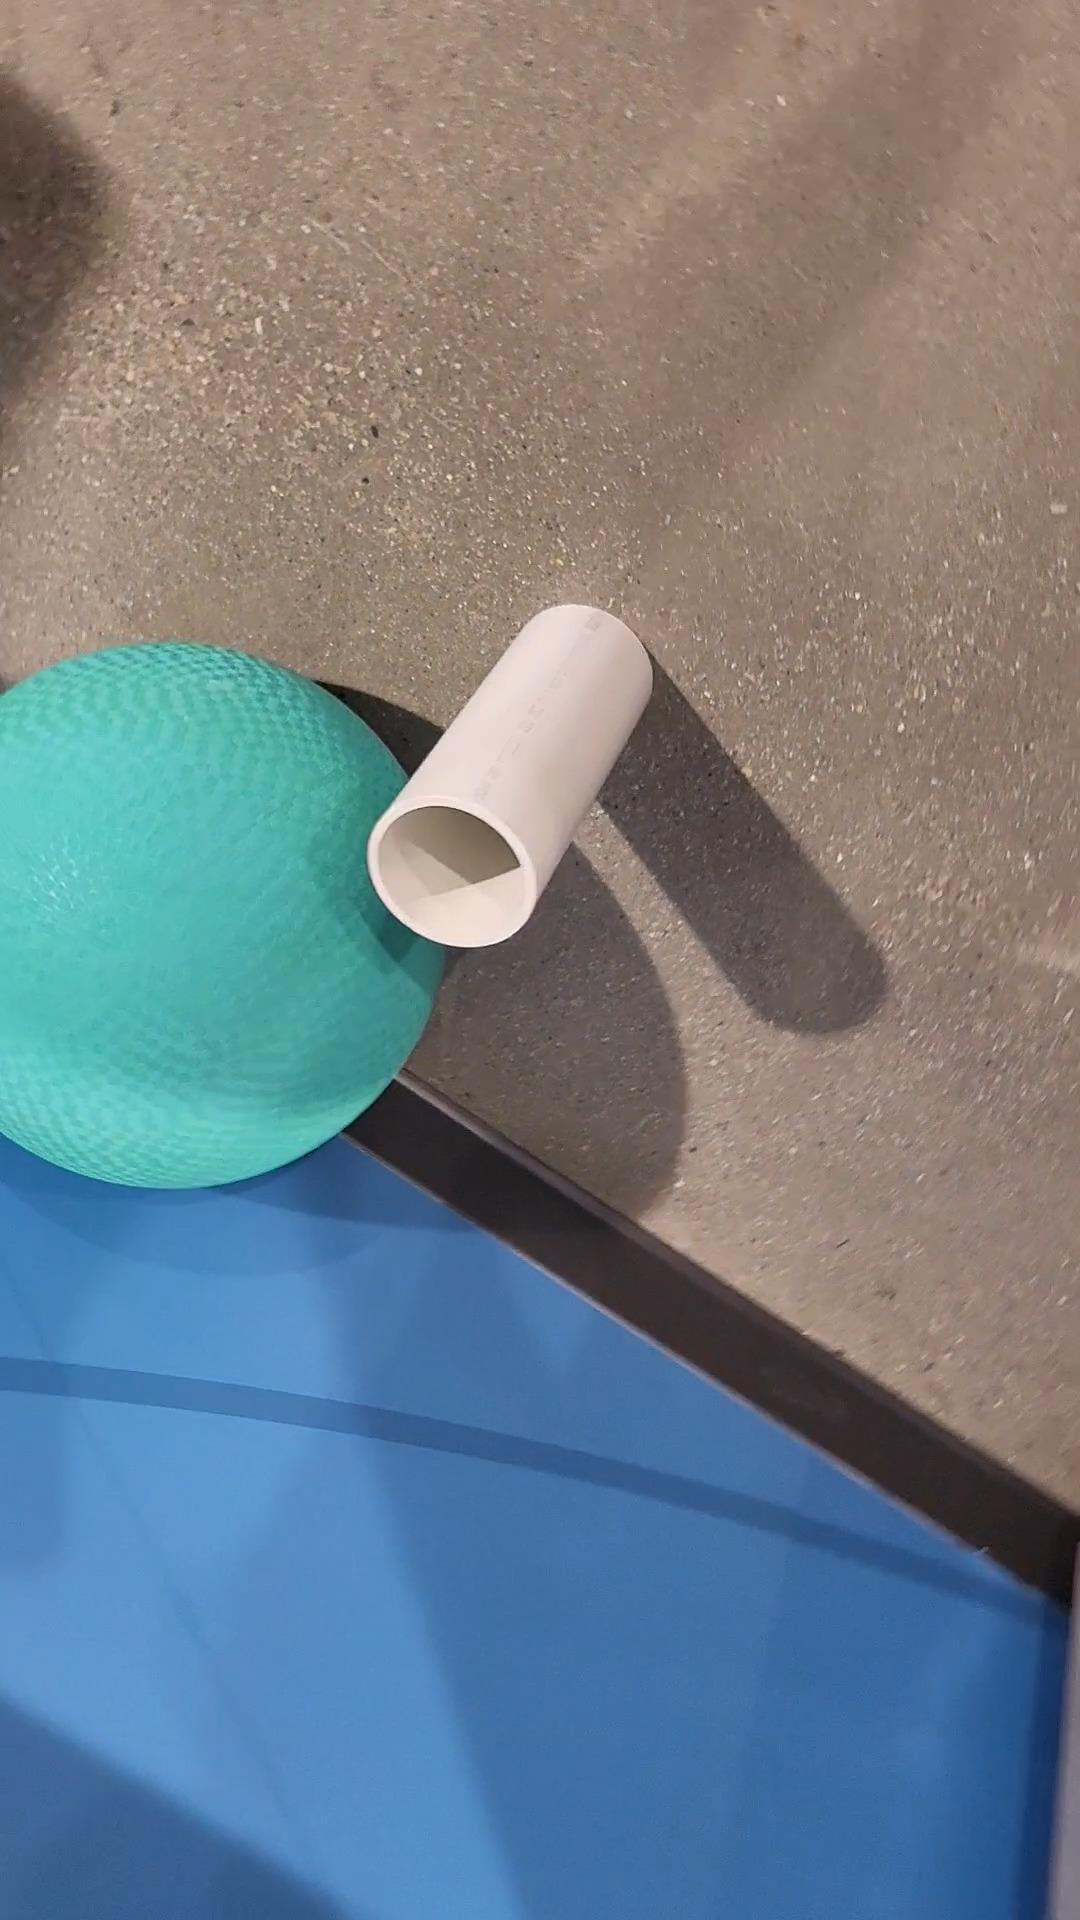algae: (0, 644, 444, 1189)
coral: (368, 604, 649, 949)
